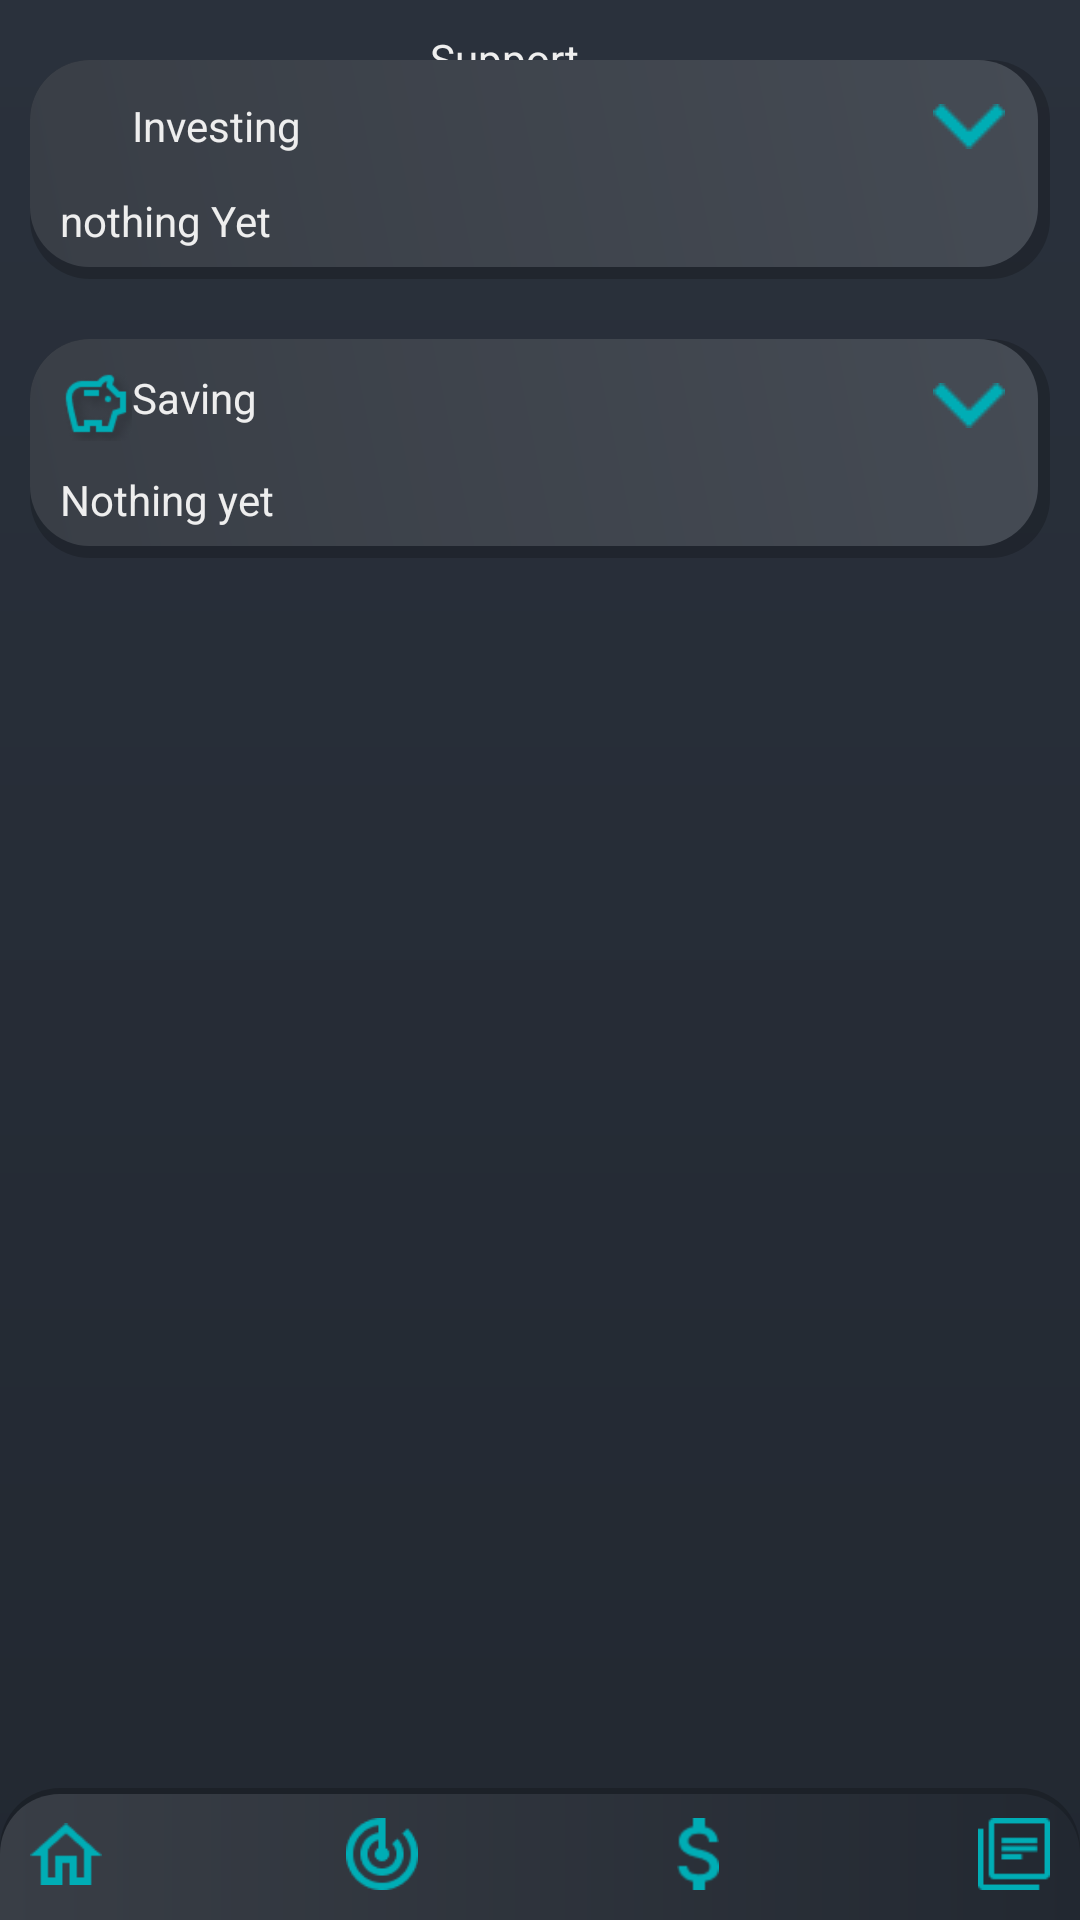

Point at icon controls on the screen. Image size 1080 x 1920, points as (x,y).
arrow downwards: (969,126), (969,405)
goals: (382,1854)
home: (66,1854)
money: (698,1854)
